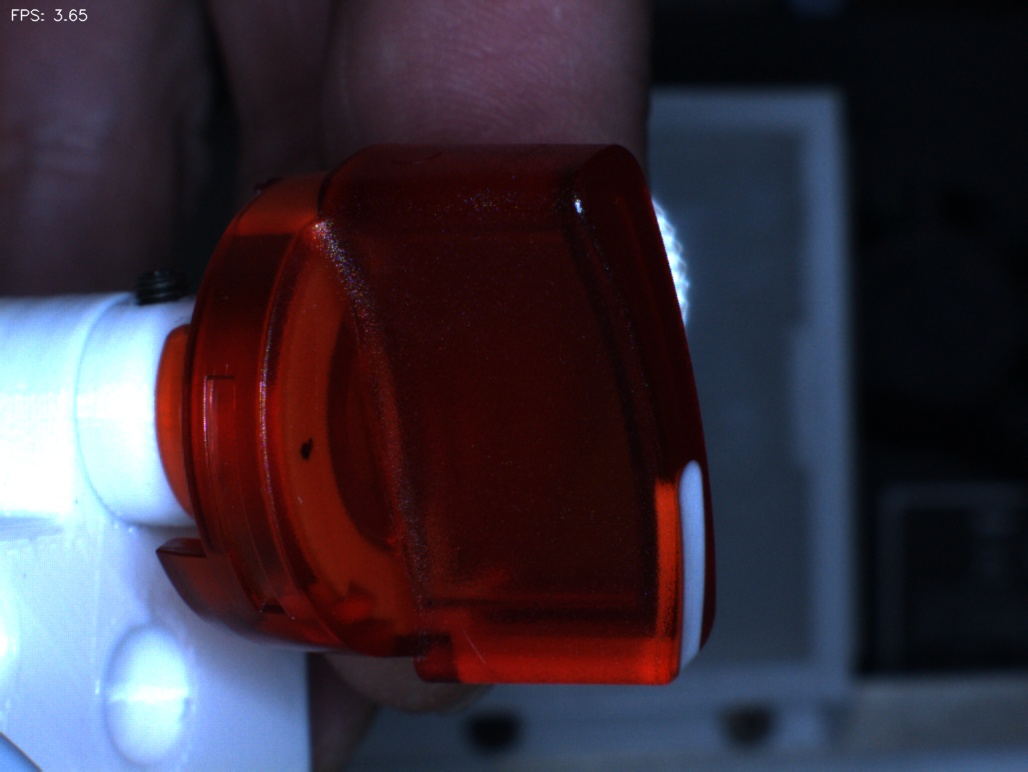PointNoir: (263, 402, 349, 496)
